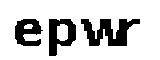e: (12, 17, 43, 51)
p: (46, 16, 78, 60)
r: (121, 16, 146, 49)
w: (76, 16, 123, 48)
